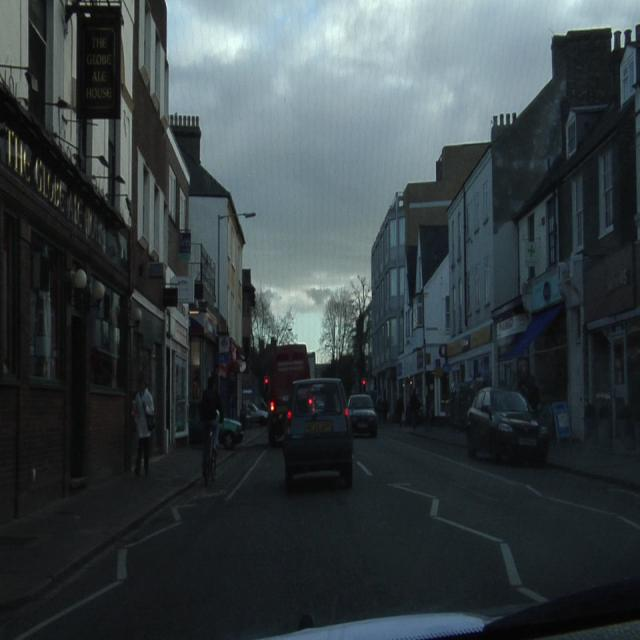Building: (1, 5, 253, 526), (371, 15, 637, 441)
Car: (284, 379, 352, 491), (468, 390, 546, 455), (350, 395, 377, 436), (219, 419, 243, 447)
Road: (2, 425, 639, 633)
Tree: (251, 290, 296, 398), (320, 288, 355, 362)
person: (132, 376, 154, 475), (201, 375, 220, 483)
